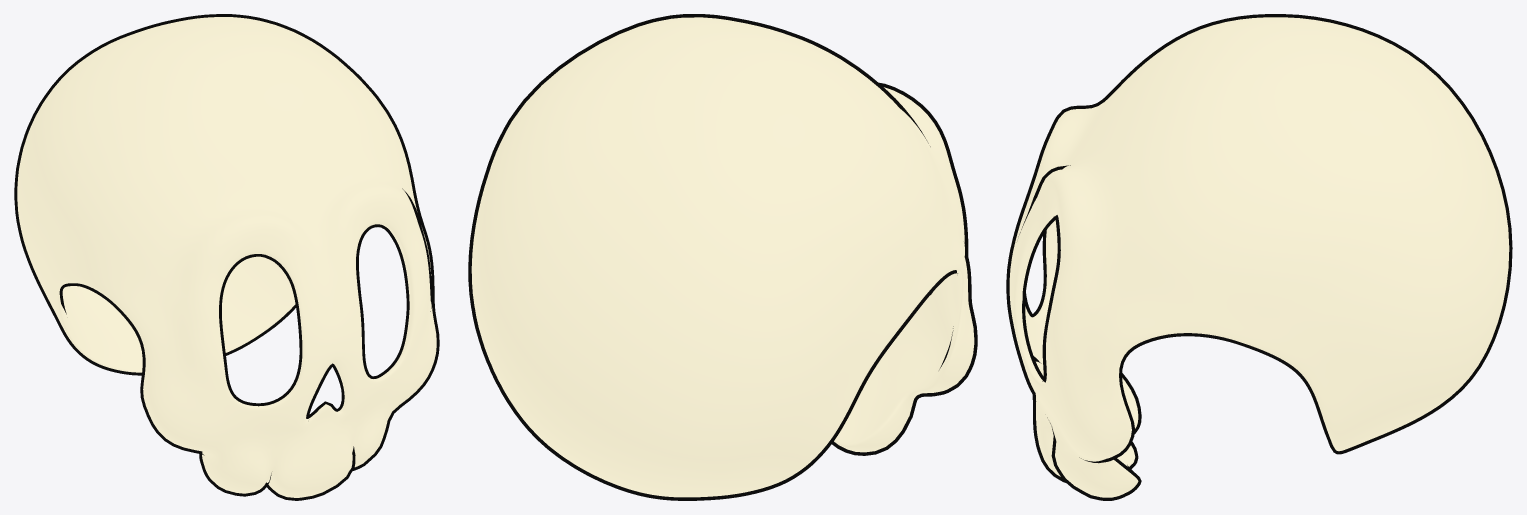
The model's file is HEAD.BIOLOGY.SKELETON.glb.
3 views of the same model, side by side, from view 1: azimuth 30°, elevation 25°; view 2: azimuth 150°, elevation 25°; view 3: azimuth 270°, elevation 25° (orthographic). The views are drawn at different scales.
Visible parts, largest first — view 1: HEAD.BIOLOGY.SKELETON; view 2: HEAD.BIOLOGY.SKELETON; view 3: HEAD.BIOLOGY.SKELETON.
Part boxes in pixels (x1=…): HEAD.BIOLOGY.SKELETON: x1=14, y1=14, x2=439, y2=500; HEAD.BIOLOGY.SKELETON: x1=468, y1=14, x2=977, y2=500; HEAD.BIOLOGY.SKELETON: x1=1006, y1=14, x2=1512, y2=500.
Bounding box in the file's own units: 1.3 × 1.53 × 1.58.
